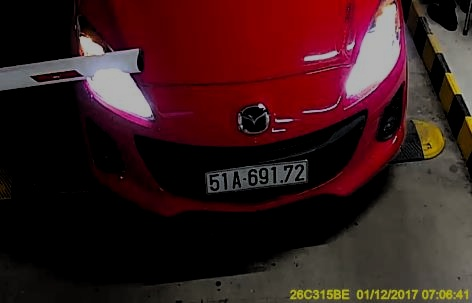plate: (200, 160, 308, 191)
